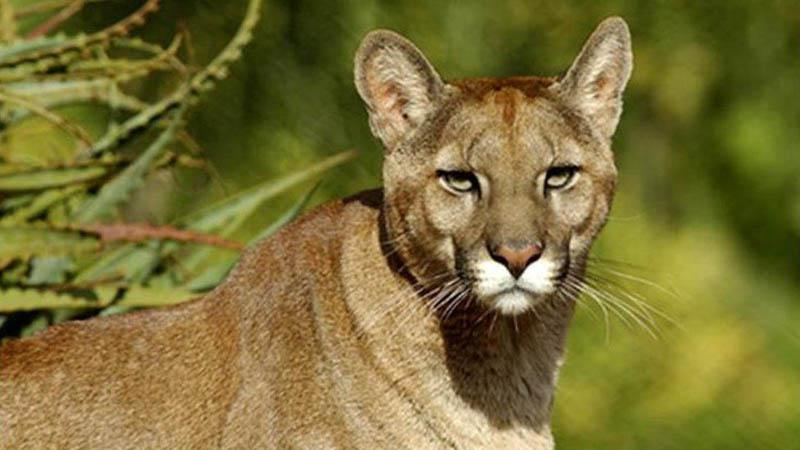OncaParda: (28, 11, 639, 446)
